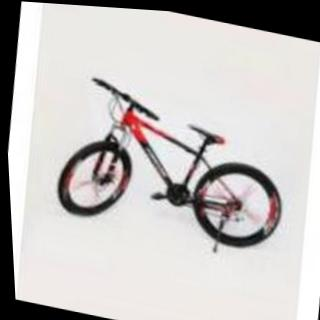Bike: (45, 66, 305, 262)
